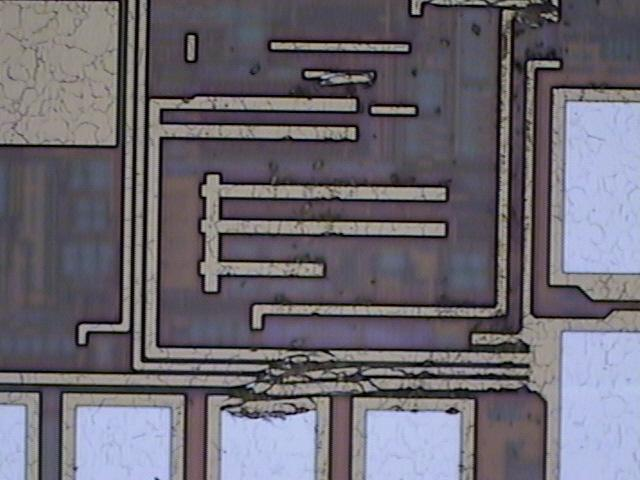PO CONTAMINATION: (221, 1, 616, 425)
